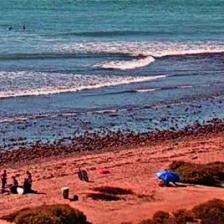surfer: (8, 27, 13, 30), (24, 25, 26, 29)
